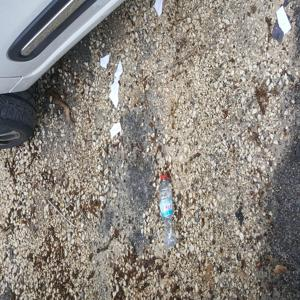paper: (104, 63, 139, 109), (269, 6, 294, 36), (106, 120, 135, 141), (94, 49, 116, 72)
plastic: (157, 170, 177, 188)
plastic bottle: (151, 181, 188, 251)
